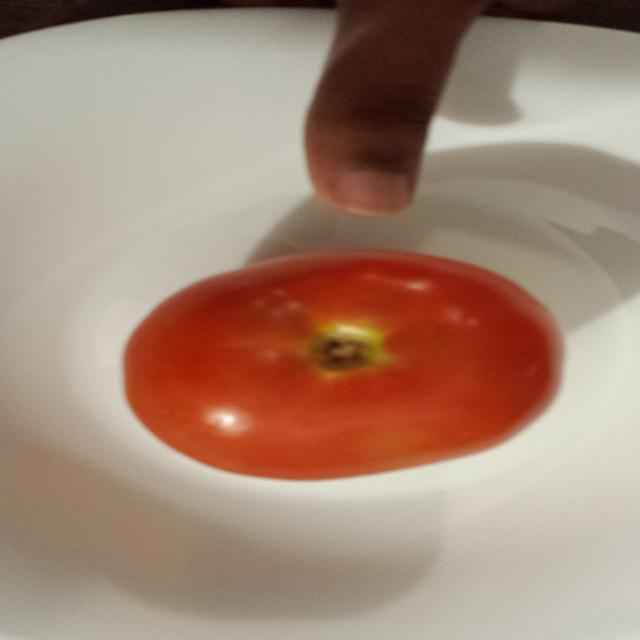tomato: (121, 248, 565, 481)
